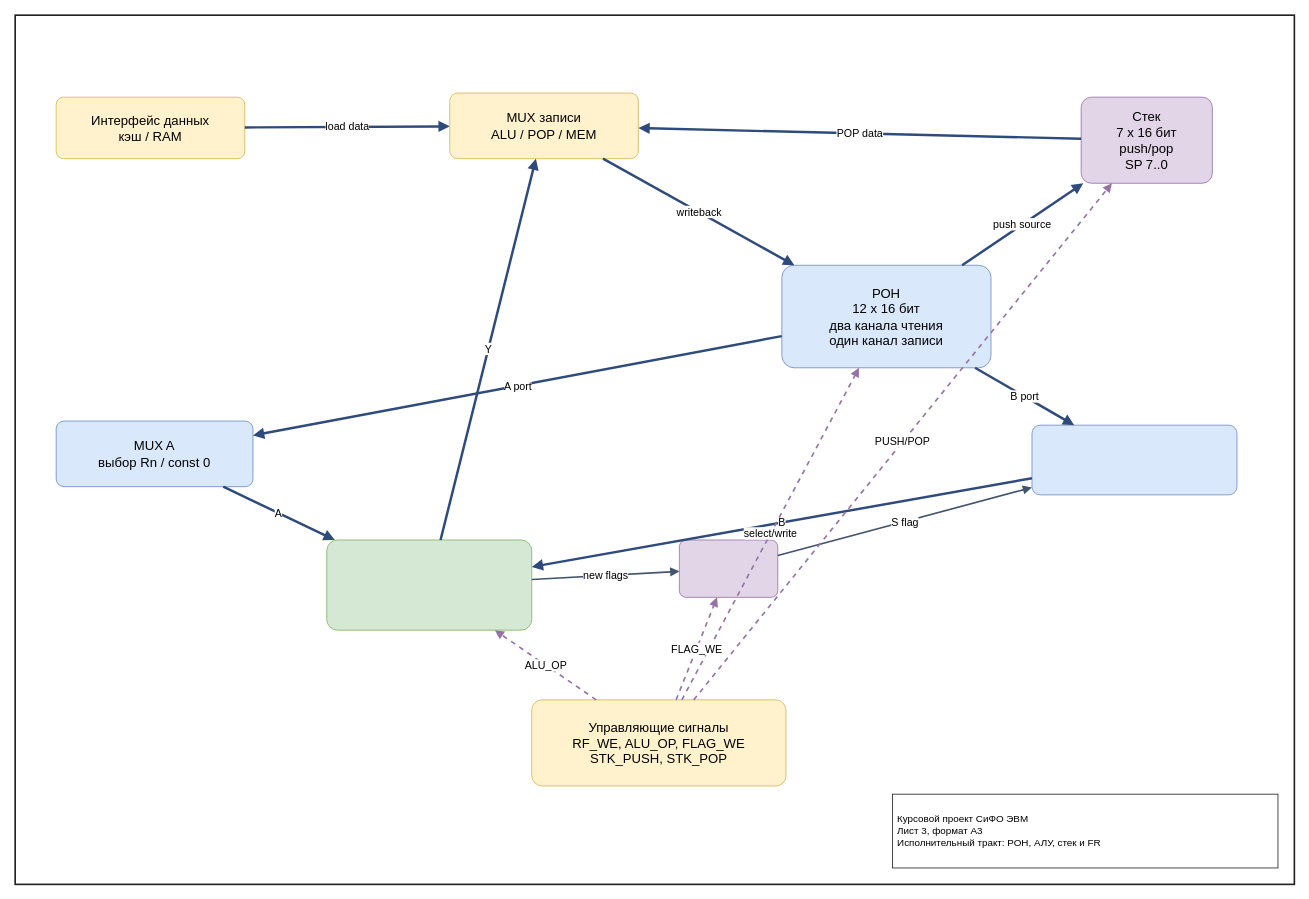
This 1309x899 diagram has some shape labels left out. The centre of each missing label's shape, as x and y in pixels:
"FR Z S C O" goes at (728,568).
"MUX B выбор M[adr] / FR.S / const" goes at (1134,459).
"АЛУ OR / NOR / SRA / INCS PASS A/B" goes at (429,584).
